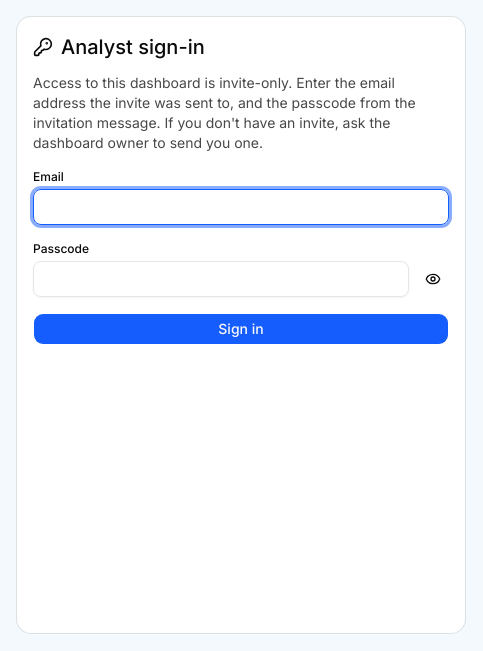
Test: ShareLoginPage › shows invalid-credentials on 401
The image size is (483, 651).
Type "wrong@example.com" into the field labelled "Email" at (241, 207), box [33, 189, 449, 225]
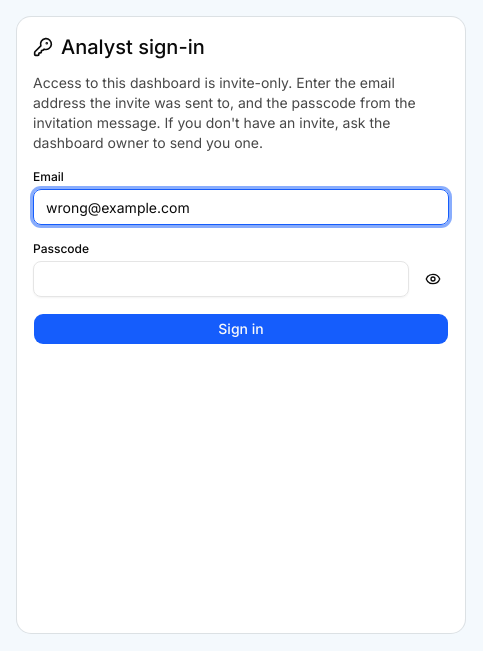
Type "nope" into the password field labelled "Passcode" at (221, 279), box [33, 261, 409, 297]
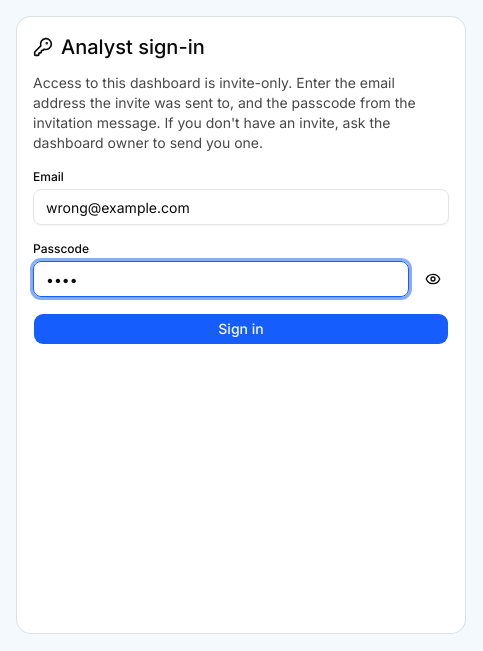
Click the button "Sign in" at (241, 329), box [33, 313, 449, 345]
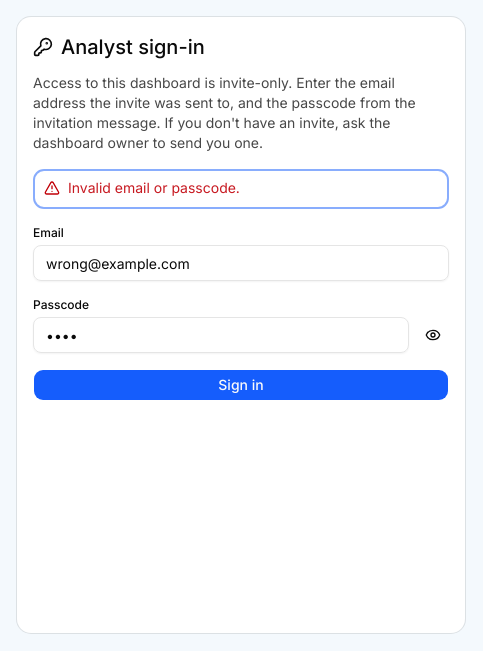
Result: the text "Invalid email or passcode." is shown at [68, 179, 240, 196]
